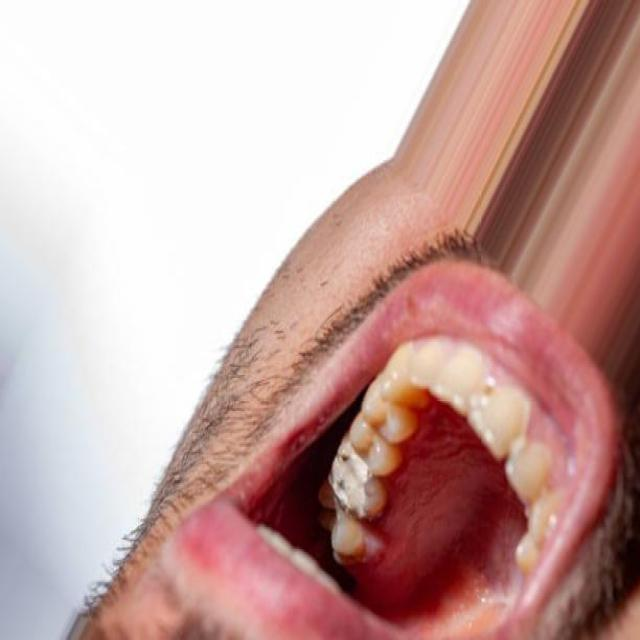caries: (326, 443, 372, 520)
